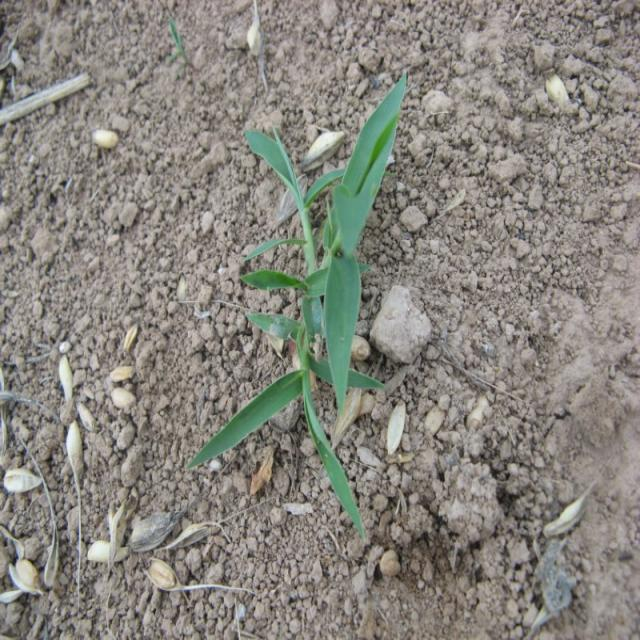bg: (194, 68, 412, 530)
